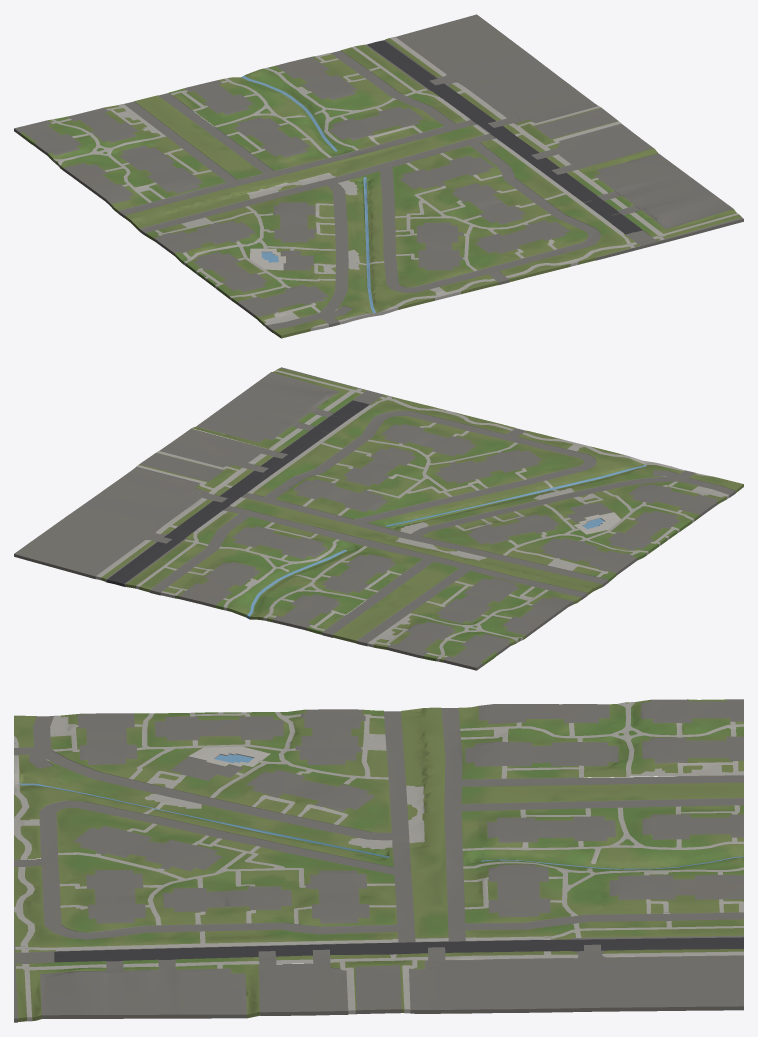
3 renders of one model, top to bottom at view 1: azimuth 30°, elevation 25°; view 2: azimuth 150°, elevation 25°; view 3: azimuth 270°, elevation 25°, orthographic. The views are drawn at different scales.
Visible parts, largest first — view 1: T--2-0.L2:utd:matte, T--2-0.L2:utd:water; view 2: T--2-0.L2:utd:matte, T--2-0.L2:utd:water; view 3: T--2-0.L2:utd:matte, T--2-0.L2:utd:water.
Part boxes in pixels (box(x1,y1,x2,y2)): T--2-0.L2:utd:matte: box(14, 14, 743, 338); T--2-0.L2:utd:water: box(241, 76, 375, 313); T--2-0.L2:utd:matte: box(14, 367, 743, 670); T--2-0.L2:utd:water: box(247, 465, 646, 616); T--2-0.L2:utd:matte: box(14, 699, 743, 1022); T--2-0.L2:utd:water: box(19, 754, 743, 869).
Size of the model in its own units: 256 by 8.95 by 256.
